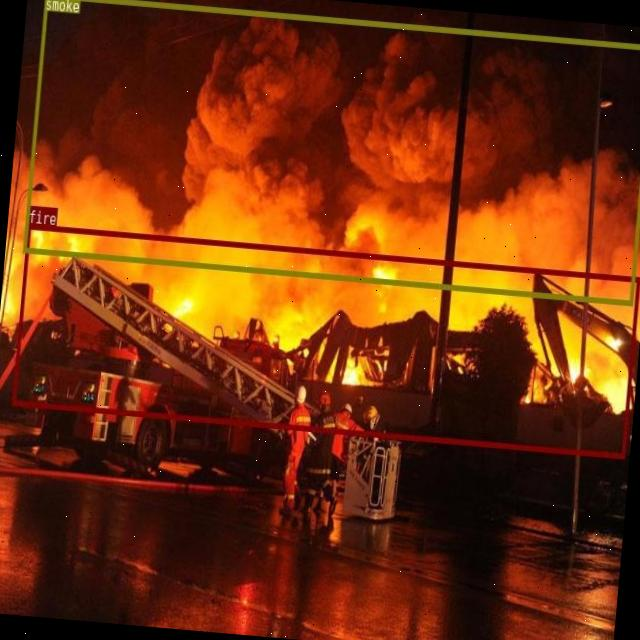fire: (11, 223, 639, 457)
smoke: (23, 0, 640, 305)
